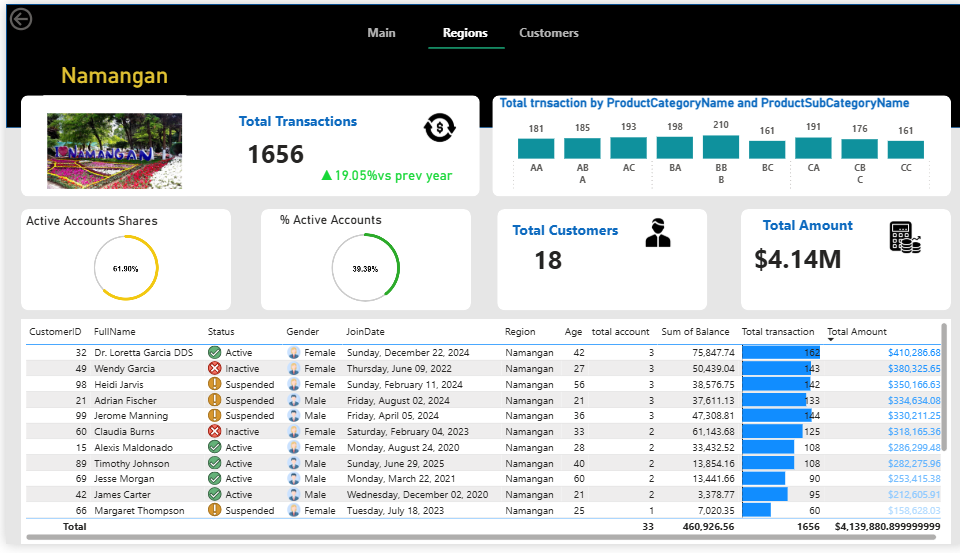

The page's visual inventory and layout, read from the dashboard file:
{"tool":"powerbi","page":{"name":"Regions","canvas":[1280,720],"ordinal":1},"visuals":[{"type":"shape","box":[0,0,1280,165],"z":0},{"type":"shape","box":[20,121.7,611.7,135],"z":1000},{"type":"card","fields":{"Values":["Measure Table.total trnsaction"]},"box":[295,171.7,128.3,56.7],"z":2000},{"type":"textbox","box":[295,138.3,188.3,41.7],"z":3000},{"type":"image","box":[541.7,138.3,73.3,53.3],"z":4000},{"type":"card","fields":{"Values":["Measure Table.formatted tranYOY"]},"box":[398.3,208.3,216.7,40],"z":5000},{"type":"shape","box":[648.3,121.7,611.7,135],"z":6000},{"type":"actionButton","box":[0,0,100,40],"z":7000},{"type":"card","fields":{"Values":["Measure Table.select region"]},"box":[35,63.3,220,58.3],"z":8000},{"type":"cardVisual","fields":{"Data":["Measure Table.total Amount"]},"box":[50,122,190,134],"z":9000},{"type":"columnChart","title":"Total trnsaction by ProductCategoryName and ProductSubCategoryName","fields":{"Category":["DimProductCategory.ProductCategoryName","DimProductSubCategory.ProductSubCategoryName"],"Y":["Measure Table.total trnsaction"]},"box":[652.9,121.4,601.4,135.7],"z":10000},{"type":"shape","box":[655,273.3,280,135],"z":11000},{"type":"card","fields":{"Values":["Measure Table.total Customers"]},"box":[658.3,311.7,128.3,58.3],"z":12000},{"type":"textbox","box":[655,283.3,186.7,41.7],"z":13000},{"type":"image","box":[835,278.3,68.3,53.3],"z":14000},{"type":"shape","box":[980,273.3,280,135],"z":15000},{"type":"card","fields":{"Values":["Measure Table.total Amount"]},"box":[974.7,312.3,162,57],"z":16000},{"type":"textbox","box":[974.2,276.7,187.8,41.1],"z":17000},{"type":"image","box":[1162,285.6,74.4,52.2],"z":18000},{"type":"shape","box":[20,273.3,280,135],"z":19000},{"type":"shape","box":[340,273.3,280,135],"z":20000},{"type":"tableEx","fields":{"Values":["DimCustomer.CustomerID","DimCustomer.FullName","DimCustomer.Status","DimCustomer.Gender","DimCustomer.JoinDate","DimCustomer.Region","DimCustomer.Age","Measure Table.total account","Sum(DimAccount.Balance)","Measure Table.total trnsaction","Measure Table.total Amount"]},"box":[20,420,1240,300],"z":21000},{"type":"actionButton","box":[445.1,17.1,111.4,40],"z":22000},{"type":"actionButton","box":[668,17.1,111.4,40],"z":23000},{"type":"actionButton","box":[556,17,111.4,40],"z":24000},{"type":"shape","box":[562.9,50,101.4,17.1],"z":25000},{"type":"payPalKPIDonutChart55A431AB15A540ED924ACD72ED8D259F","title":"% Active Accounts","fields":{"myvalue":["Measure Table.Active Acc cnt per"]},"box":[360,276.7,238.3,131.7],"z":26000},{"type":"payPalKPIDonutChart55A431AB15A540ED924ACD72ED8D259F","title":"Active Accounts Shares","fields":{"myvalue":["Measure Table.Active account shares"]},"box":[21.2,278.8,276.2,127.5],"z":27000}]}

Visuals, with their boxes in screenshot pixels (x1, y1, x2, y2), scaled from the page's 1280x720 canvas onto the 960x553 screenshot:
shape: bbox=(0, 0, 959, 127)
shape: bbox=(15, 93, 474, 197)
card - Measure Table.total trnsaction: bbox=(221, 132, 317, 175)
textbox: bbox=(221, 106, 362, 138)
image: bbox=(406, 106, 461, 147)
card - Measure Table.formatted tranYOY: bbox=(299, 160, 461, 191)
shape: bbox=(486, 93, 945, 197)
actionButton: bbox=(0, 0, 75, 31)
card - Measure Table.select region: bbox=(26, 49, 191, 93)
cardVisual - Measure Table.total Amount: bbox=(38, 94, 180, 197)
"Total trnsaction by ProductCategoryName and ProductSubCategoryName" columnChart: bbox=(490, 93, 941, 197)
shape: bbox=(491, 210, 701, 314)
card - Measure Table.total Customers: bbox=(494, 239, 590, 284)
textbox: bbox=(491, 218, 631, 250)
image: bbox=(626, 214, 677, 255)
shape: bbox=(735, 210, 945, 314)
card - Measure Table.total Amount: bbox=(731, 240, 853, 284)
textbox: bbox=(731, 213, 872, 244)
image: bbox=(872, 219, 927, 259)
shape: bbox=(15, 210, 225, 314)
shape: bbox=(255, 210, 465, 314)
tableEx - DimCustomer.CustomerID x DimCustomer.FullName: bbox=(15, 323, 945, 552)
actionButton: bbox=(334, 13, 417, 44)
actionButton: bbox=(501, 13, 585, 44)
actionButton: bbox=(417, 13, 501, 44)
shape: bbox=(422, 38, 498, 52)
"% Active Accounts" payPalKPIDonutChart55A431AB15A540ED924ACD72ED8D259F: bbox=(270, 213, 449, 314)
"Active Accounts Shares" payPalKPIDonutChart55A431AB15A540ED924ACD72ED8D259F: bbox=(16, 214, 223, 312)
